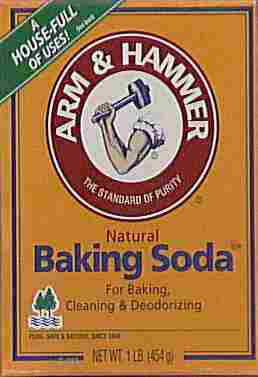grozi_52: (0, 0, 257, 377)
